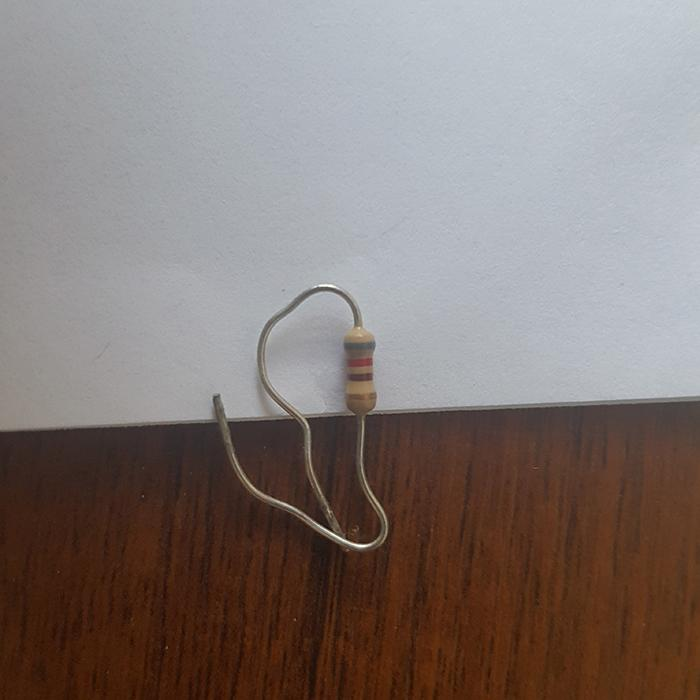resistor: (343, 324, 377, 414)
